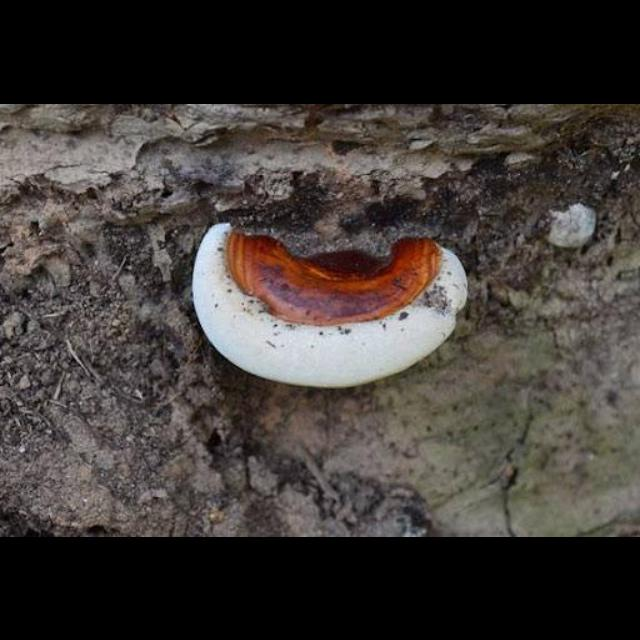ganoderma: (191, 221, 472, 392)
